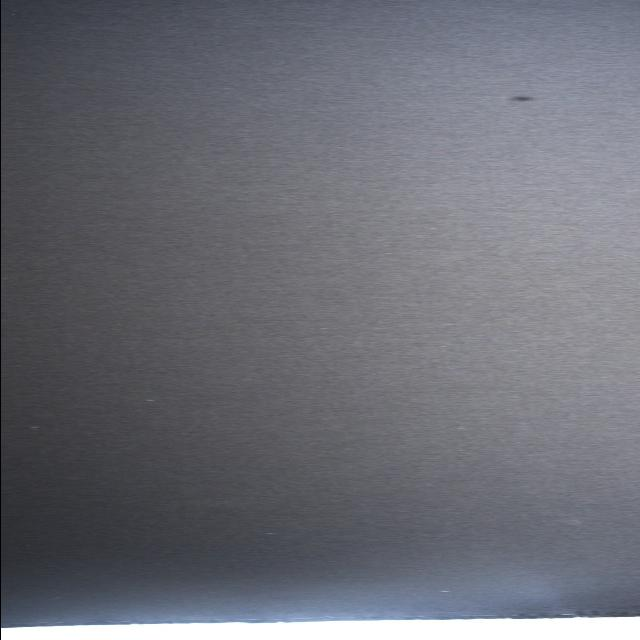whiteDefect: (17, 424, 42, 430), (554, 520, 581, 525), (142, 399, 158, 402)
